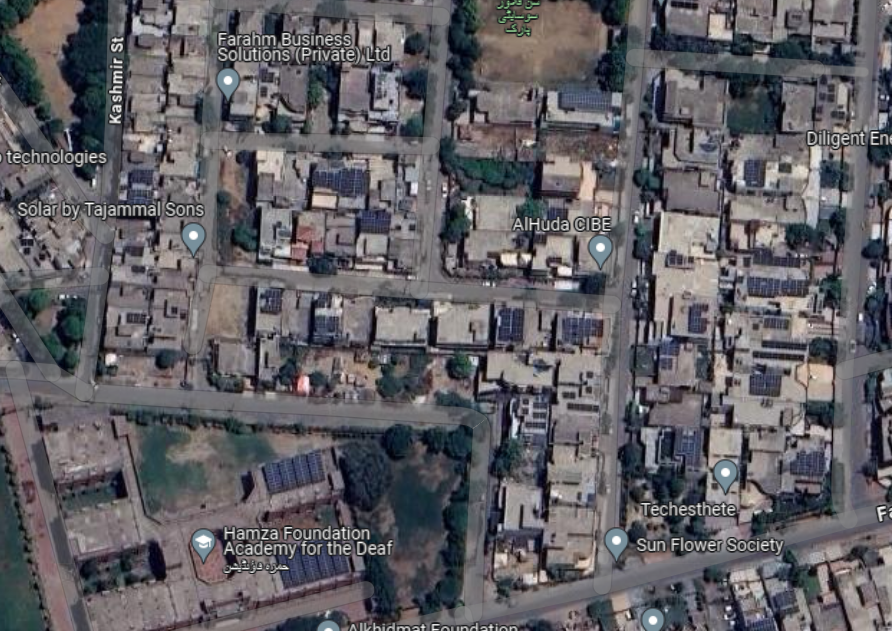solar-panel: (275, 537, 345, 580), (260, 455, 323, 486), (318, 167, 377, 196), (560, 87, 616, 111), (677, 424, 707, 468), (788, 446, 824, 478), (748, 280, 807, 298), (559, 318, 603, 341), (130, 168, 155, 204), (521, 398, 547, 429), (755, 252, 805, 268), (749, 372, 782, 396), (362, 214, 394, 238), (500, 307, 523, 339), (757, 350, 809, 362), (691, 300, 709, 333), (770, 585, 797, 607), (744, 160, 766, 186), (312, 314, 342, 332), (548, 208, 578, 226), (761, 340, 811, 350), (262, 288, 283, 311), (672, 252, 703, 266), (661, 339, 677, 366), (766, 315, 797, 328), (746, 618, 777, 631), (125, 310, 147, 325), (313, 293, 334, 308)
